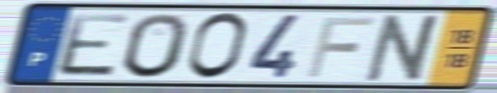4: (246, 12, 302, 82)
E: (55, 11, 134, 79)
F: (304, 15, 378, 80)
N: (361, 12, 448, 84)
O: (120, 11, 191, 80), (184, 10, 251, 82)
